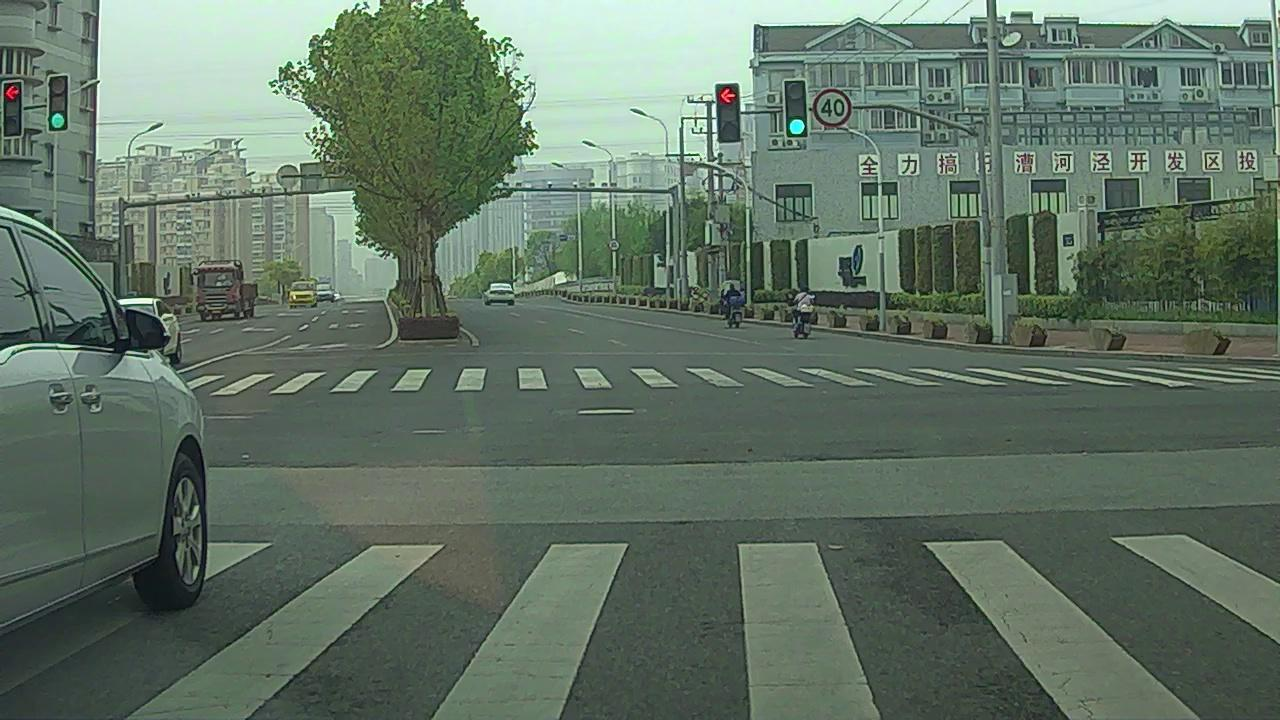traffic_light: (716, 83, 741, 143), (782, 79, 808, 136), (48, 76, 68, 132), (1, 82, 21, 136)
